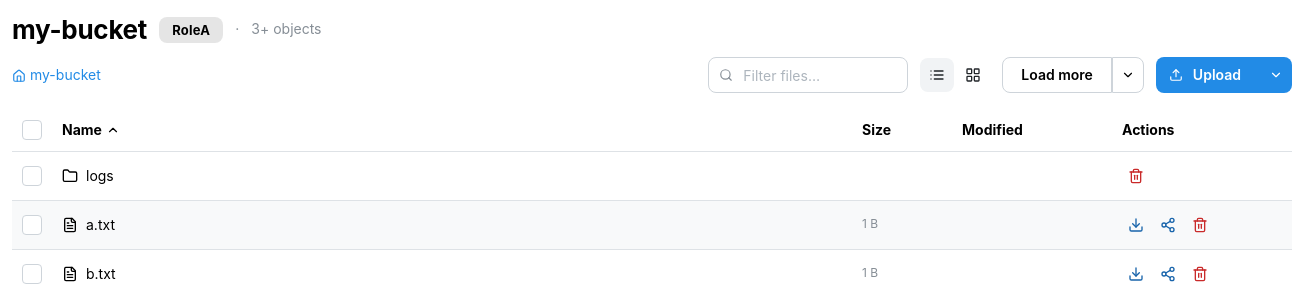
Test case: FileBrowser hybrid pagination › shows filter banner when searching and truncated
Type "a" into the field with placeholder "Filter files…" at (808, 75), box [708, 57, 908, 93]
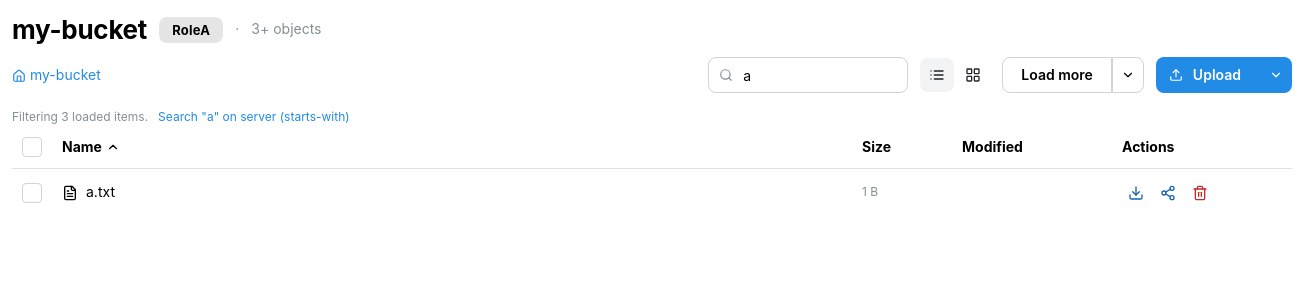
expect the button "Search \"a\" on server (starts-with)" is shown: met, box [158, 109, 350, 126]
